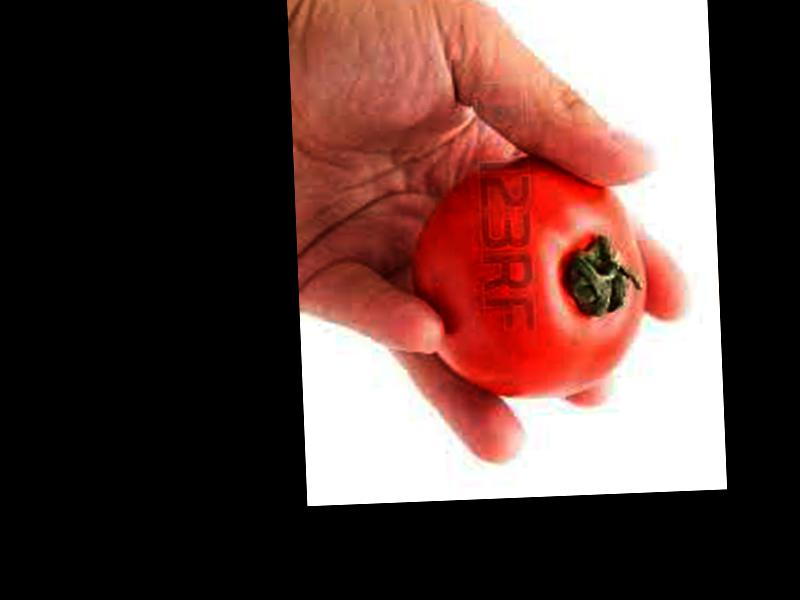Tomato: (409, 155, 650, 403)
